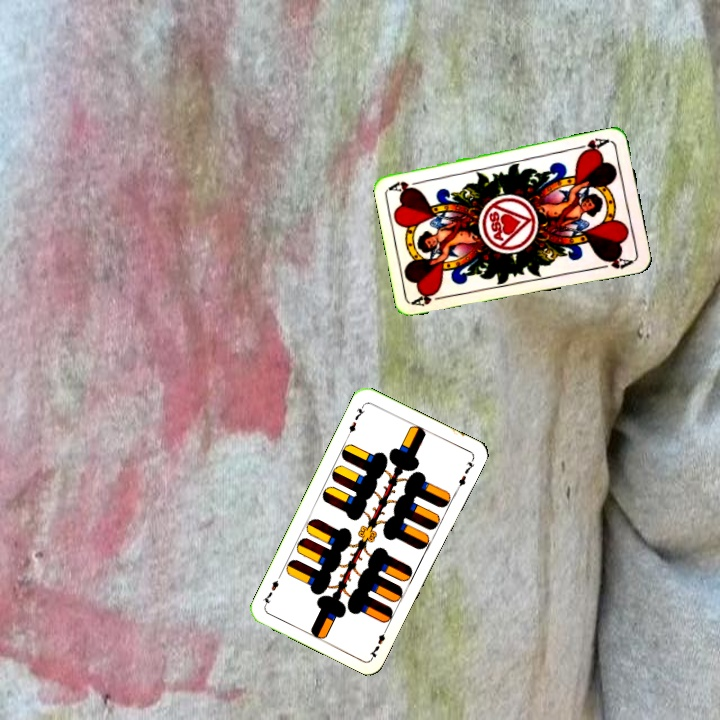E7: (366, 622, 391, 660), (344, 401, 368, 439)
HA: (409, 286, 450, 309), (572, 134, 612, 157)
